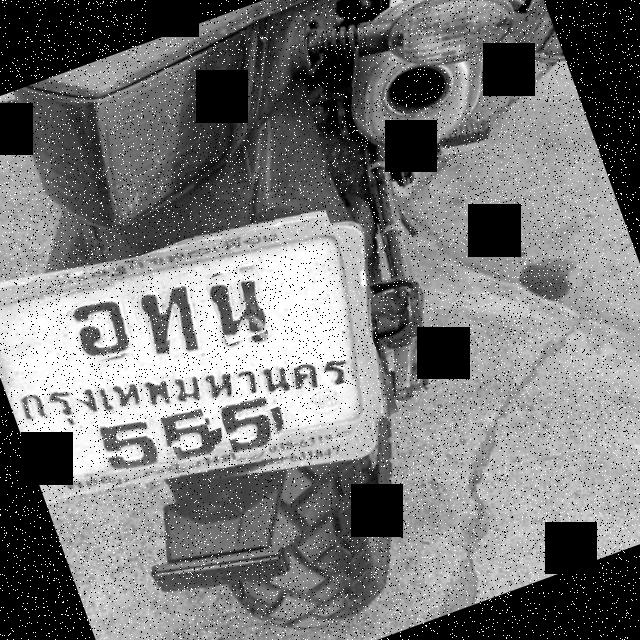letters: (39, 278, 140, 380), (84, 398, 171, 488), (128, 271, 212, 360), (203, 262, 277, 345), (218, 389, 286, 463), (158, 400, 218, 470)
license-plate: (0, 238, 362, 478)
province: (13, 350, 350, 429)
